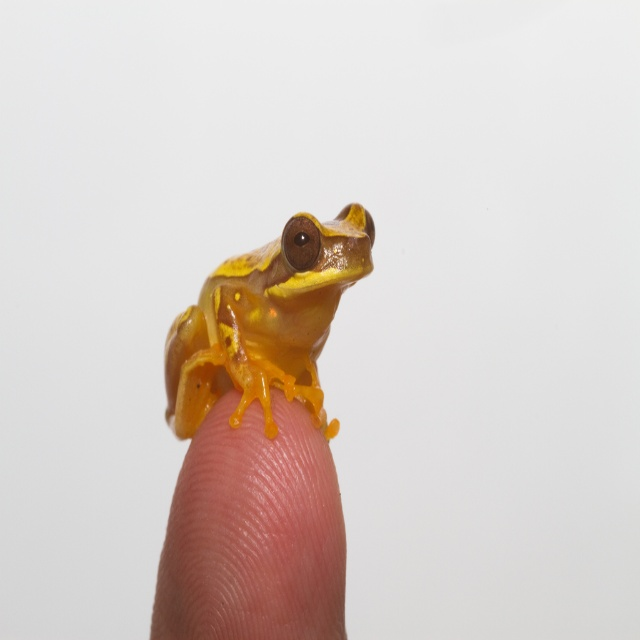Frog: (166, 199, 378, 439)
